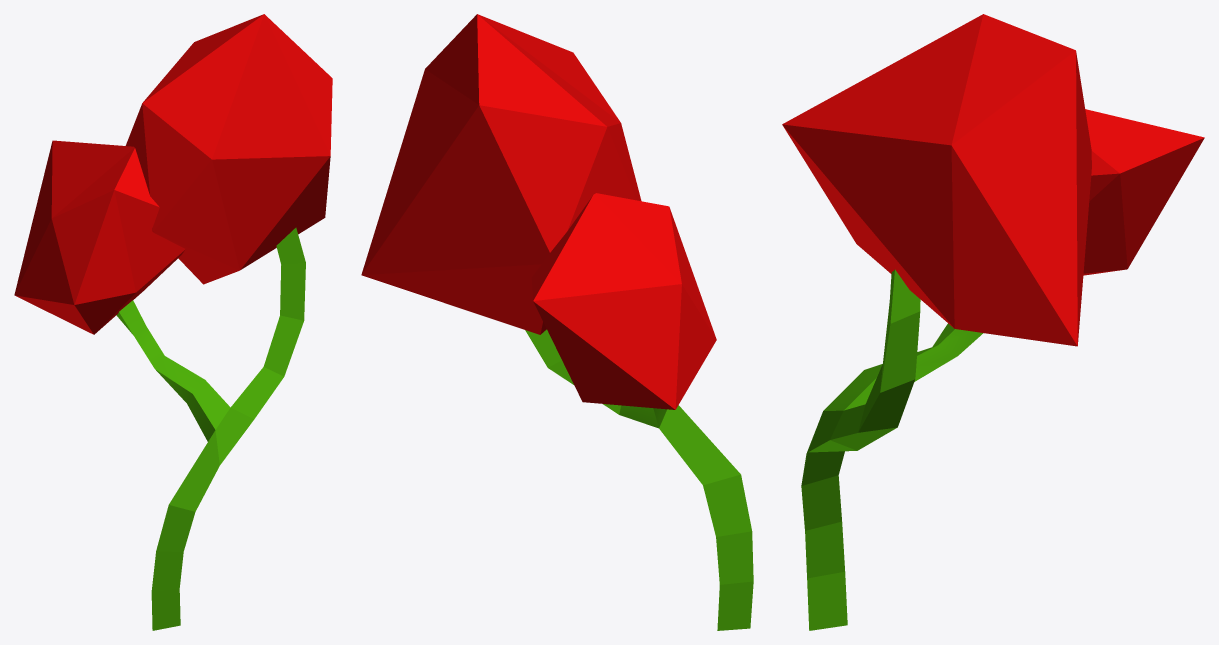
Rendered from BranchA.fbx.
3 views of the same model, side by side, from view 1: azimuth 30°, elevation 25°; view 2: azimuth 150°, elevation 25°; view 3: azimuth 270°, elevation 25° (orthographic). The views are drawn at different scales.
Visible parts, largest first — view 1: BranchA; view 2: BranchA; view 3: BranchA.
Part boxes in pixels (<box>): BranchA: <box>14,14,332,630</box>; BranchA: <box>361,14,753,630</box>; BranchA: <box>782,14,1204,630</box>.
Bounding box in the file's own units: 0.4122 × 0.7599 × 0.4064.
